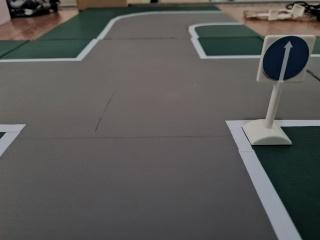straight: (256, 30, 312, 85)
